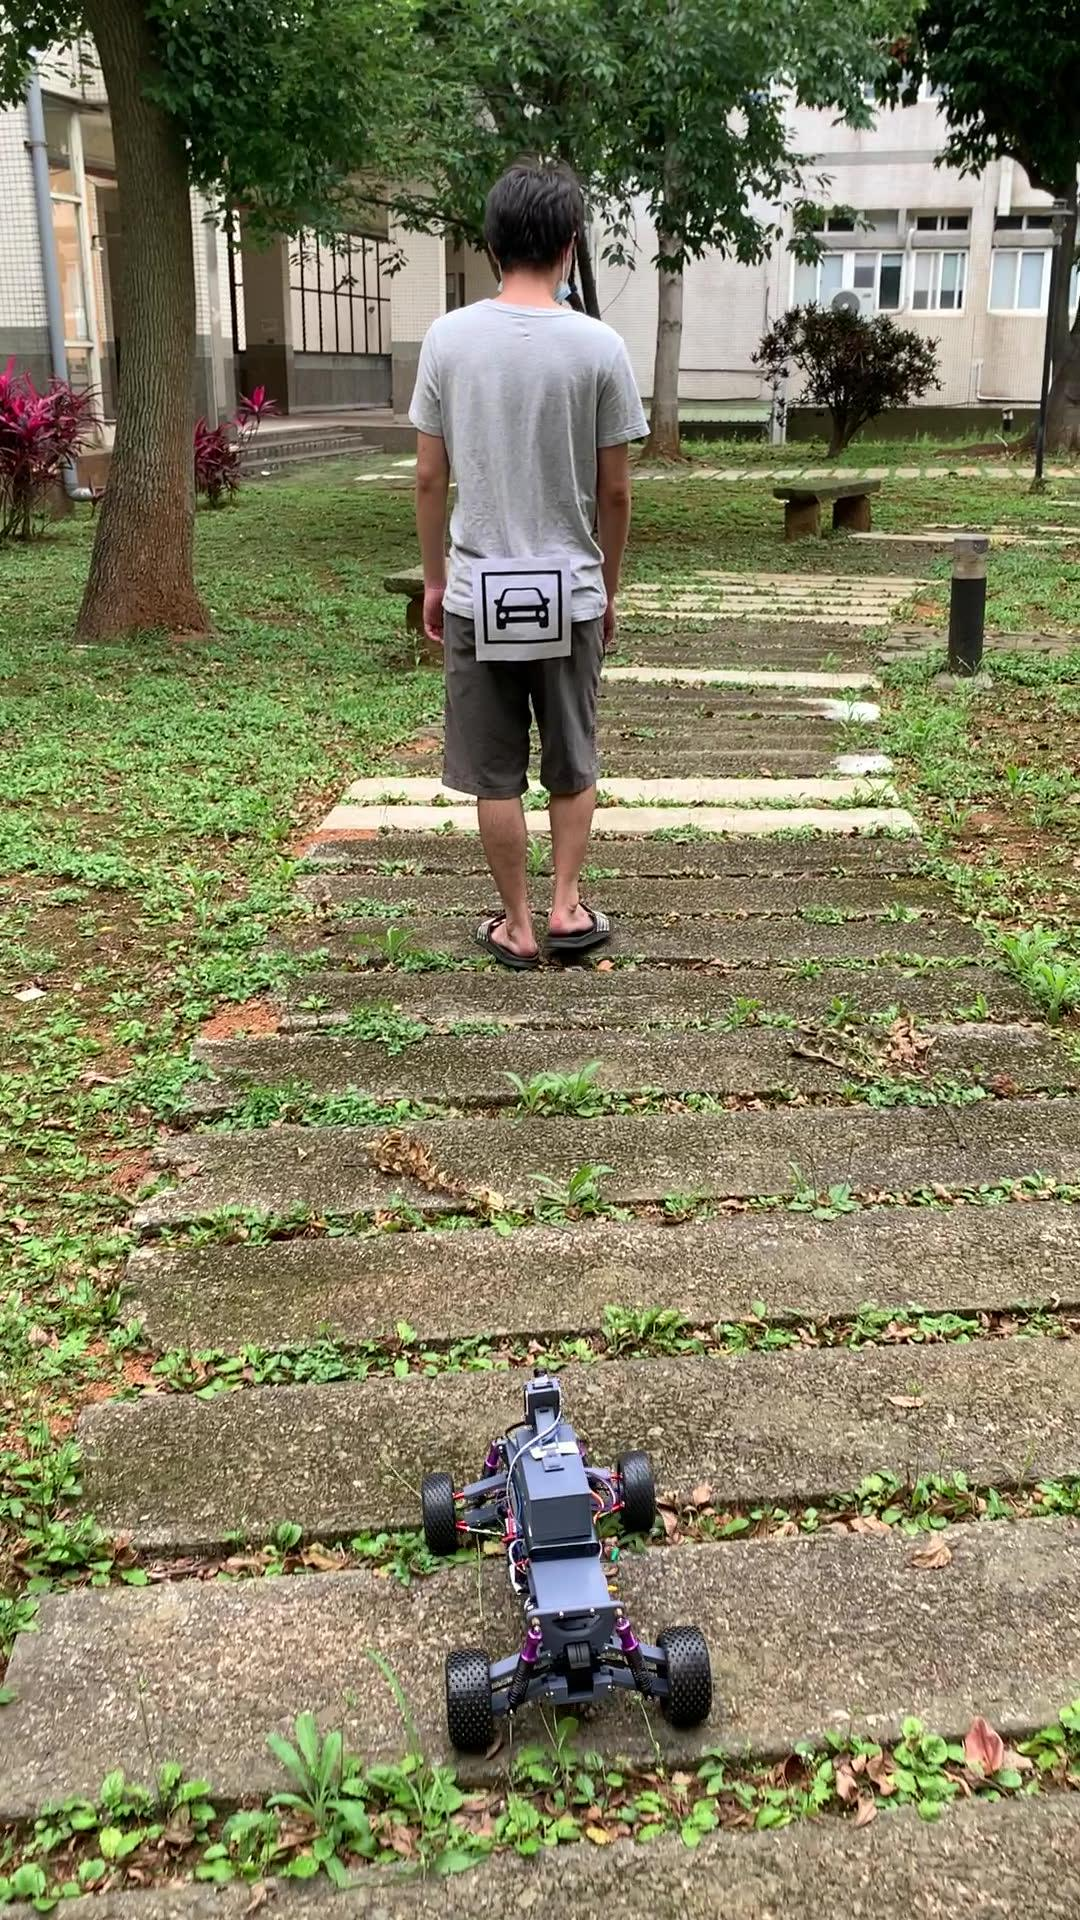car_img: (481, 570, 563, 645)
